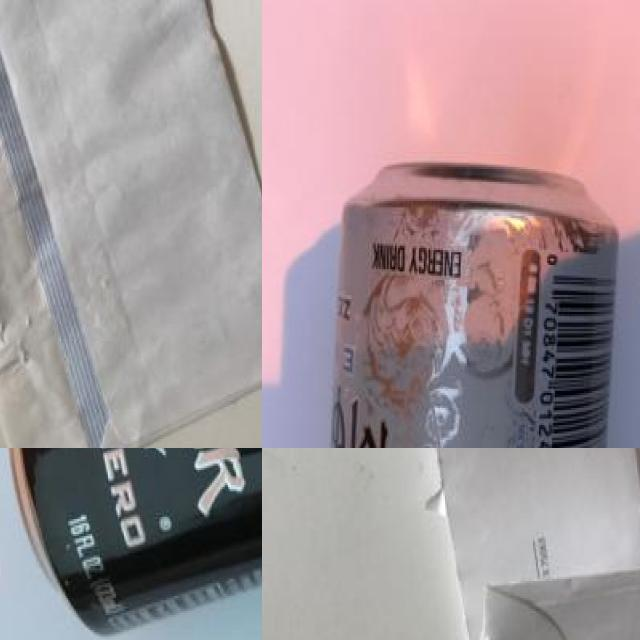paper: (0, 0, 262, 448), (359, 448, 640, 640)
plastic: (318, 154, 640, 448), (6, 448, 262, 626)
